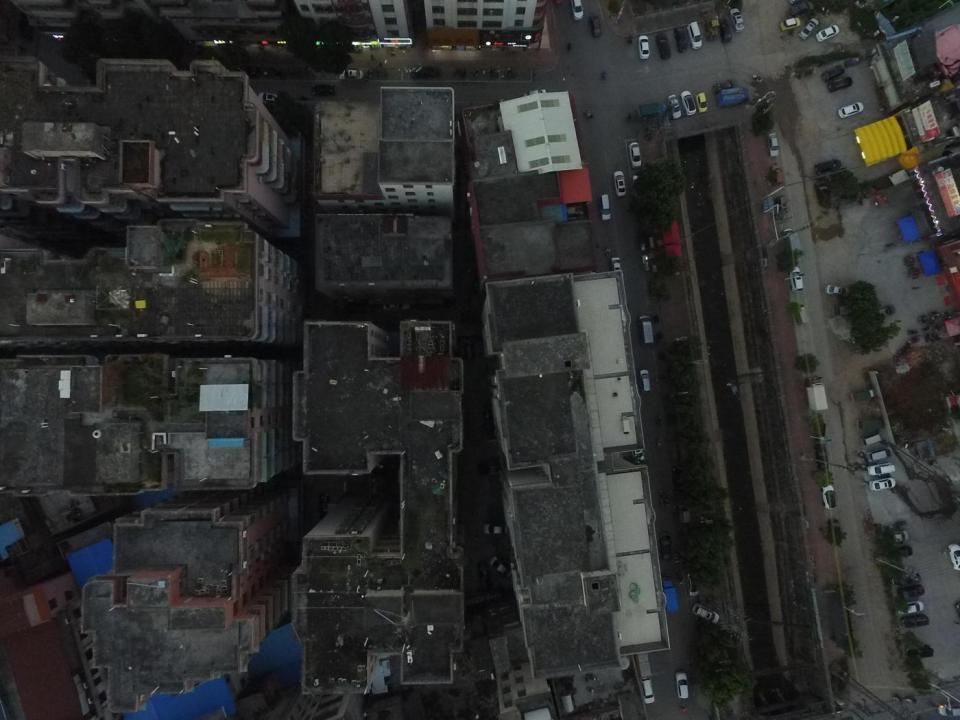car: (692, 602, 719, 624), (892, 570, 922, 587), (639, 673, 655, 704), (837, 102, 864, 119), (814, 179, 832, 204), (674, 670, 689, 700), (827, 76, 853, 93), (815, 158, 841, 175), (799, 18, 819, 40), (655, 32, 671, 59), (821, 64, 845, 82), (410, 65, 443, 78), (815, 24, 840, 41), (681, 90, 697, 116), (821, 484, 837, 510), (897, 585, 924, 600), (901, 615, 932, 628), (674, 25, 688, 53), (659, 531, 672, 561), (869, 477, 896, 491), (897, 601, 924, 615), (628, 142, 642, 169), (667, 94, 682, 119), (311, 82, 337, 96), (874, 304, 896, 320), (338, 67, 363, 81), (731, 9, 745, 34), (790, 267, 804, 292), (589, 12, 602, 38), (712, 80, 738, 93), (767, 132, 780, 158), (687, 570, 700, 596), (613, 170, 626, 196), (867, 463, 895, 475), (889, 545, 913, 559), (779, 17, 801, 32), (721, 17, 733, 44), (769, 163, 783, 186), (888, 529, 908, 544), (637, 35, 650, 58), (824, 284, 850, 295), (571, 0, 584, 21), (696, 91, 708, 112), (610, 256, 622, 277), (256, 91, 278, 102)
truck: (804, 374, 829, 411), (715, 86, 749, 108), (634, 102, 669, 123), (662, 577, 680, 613), (781, 228, 802, 255), (850, 388, 876, 402), (855, 418, 885, 430)
van: (639, 314, 654, 346), (687, 21, 703, 50), (866, 446, 894, 462), (859, 432, 883, 446), (600, 194, 612, 222), (796, 303, 809, 326), (639, 369, 652, 392)
